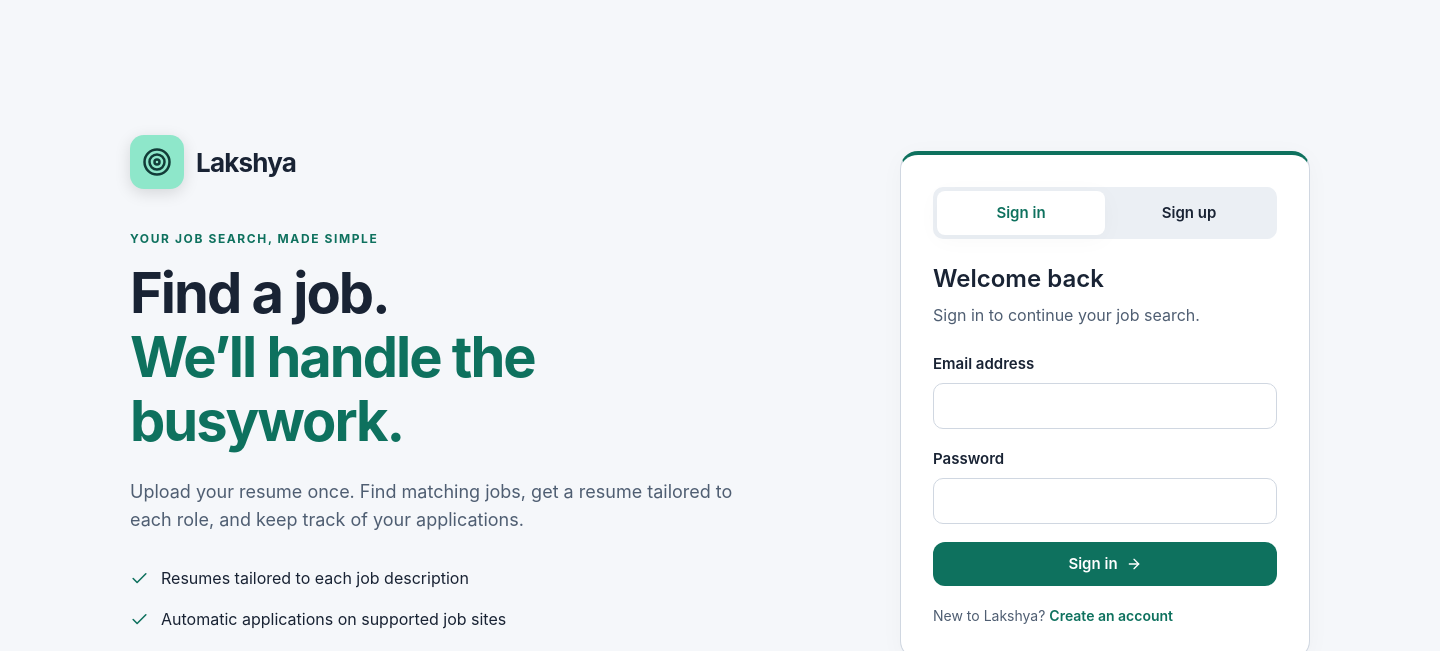
Test: sign in uses cookies without dashboard keys and sign out clears the workspace
In the field labelled "Email address": point(1105, 406) [933,383,1277,429], type "test@example.invalid"
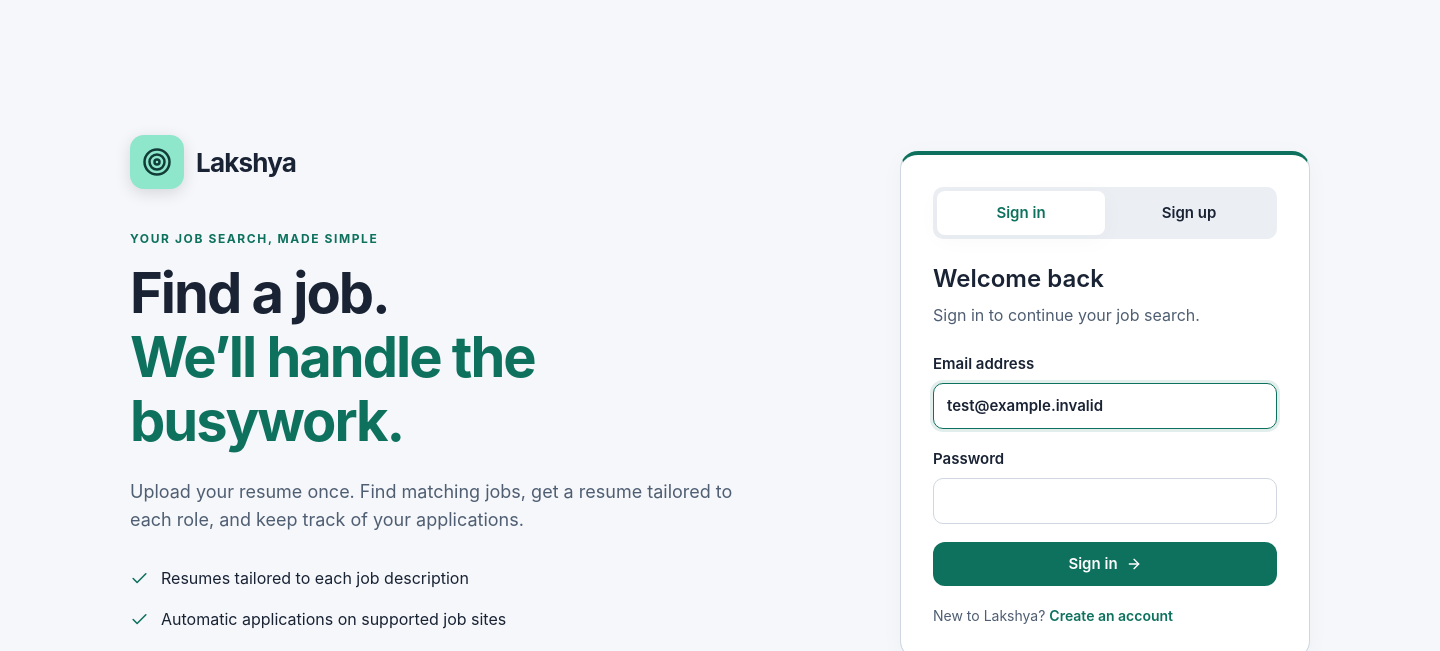
In the password field labelled "Password": point(1105, 501) [933,478,1277,524], type "valid-test-password"
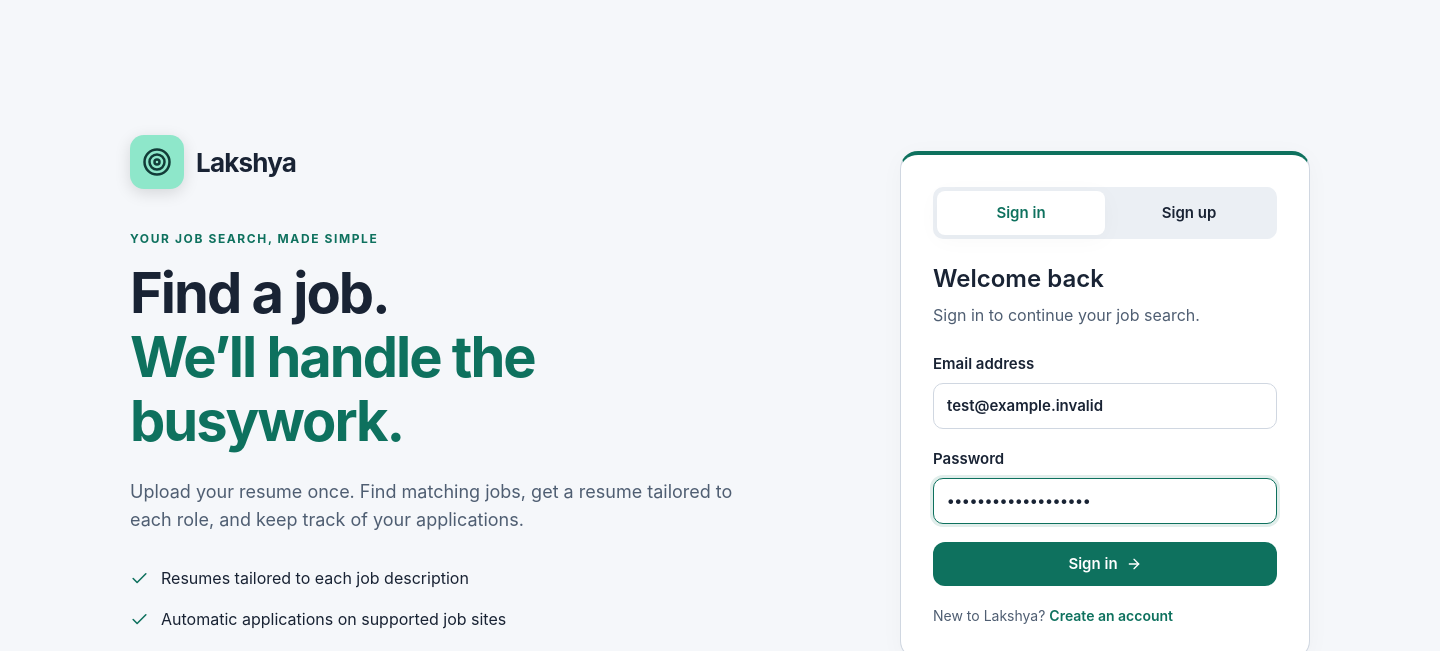
Click the button with aria-label "Sign in to my account": point(1105, 564) [933,542,1277,586]
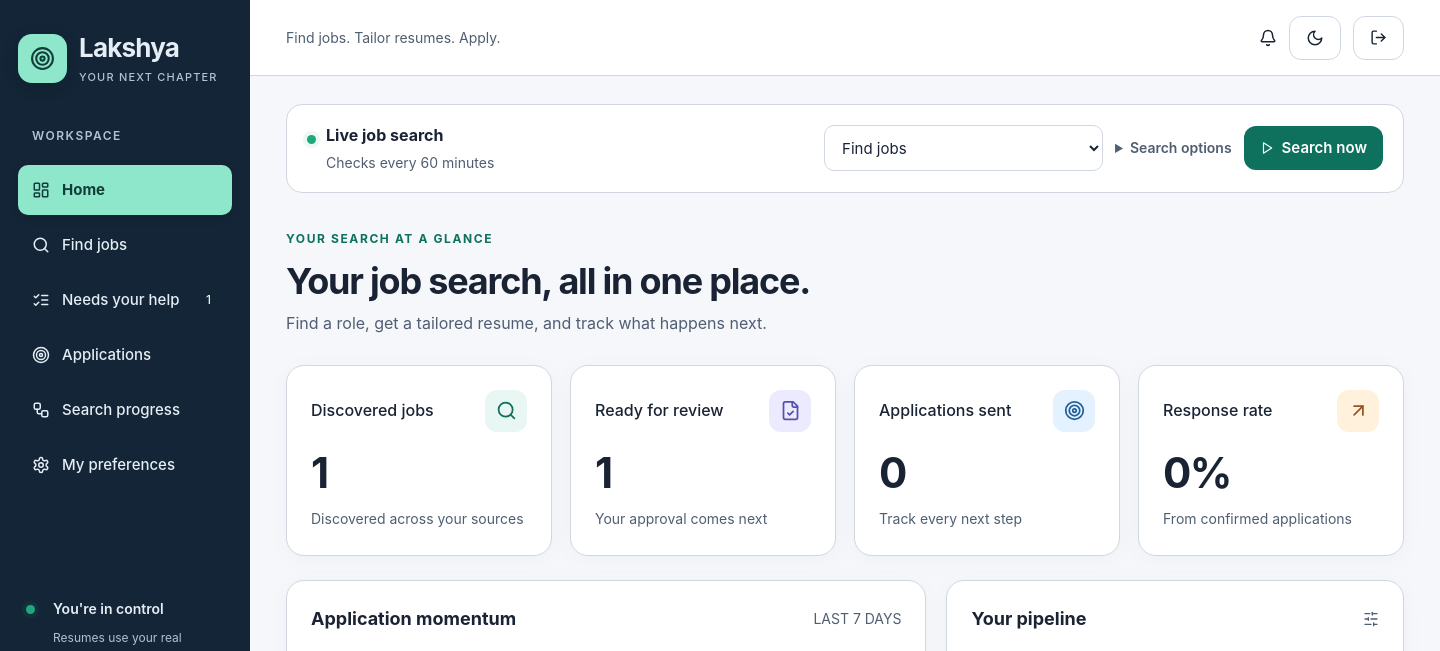
Result: the link "Home" is shown at [18,165,232,215]
Click the button named "Sign out": point(1378, 38) [1353,16,1404,60]
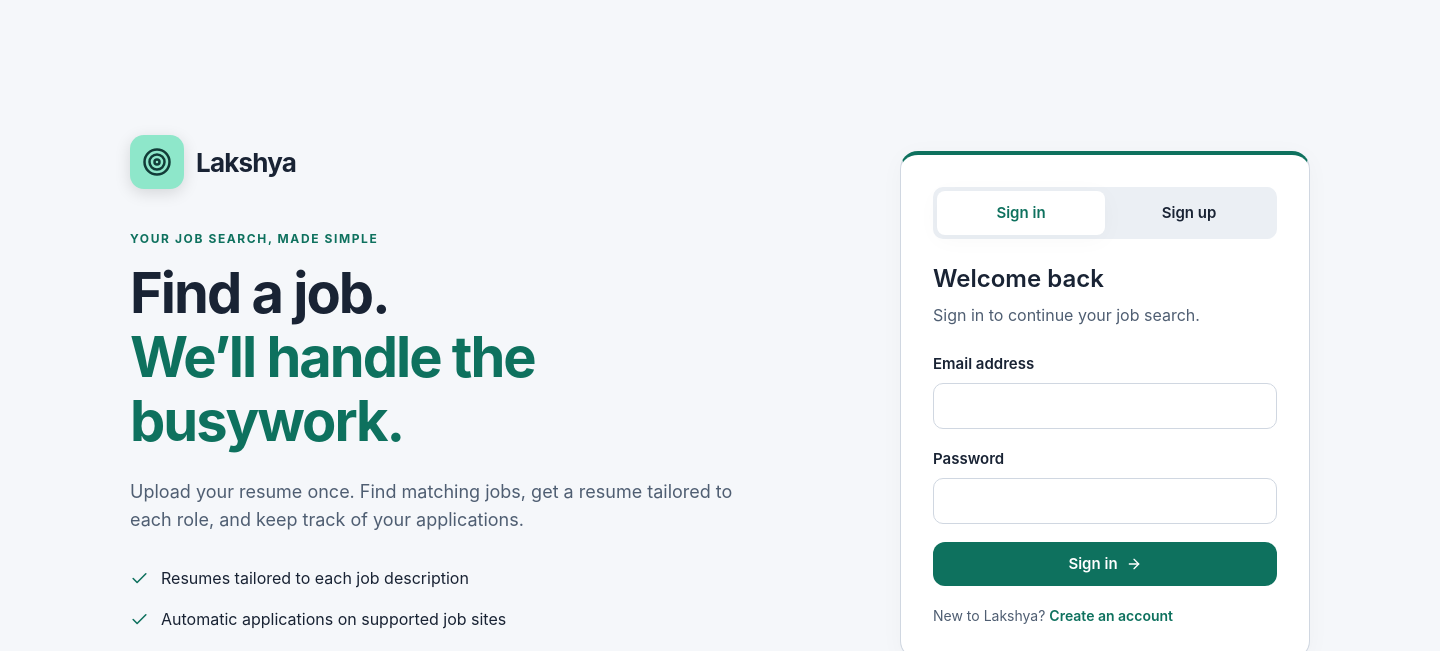
Result: the field labelled "Email address" is shown at [933,383,1277,429]
